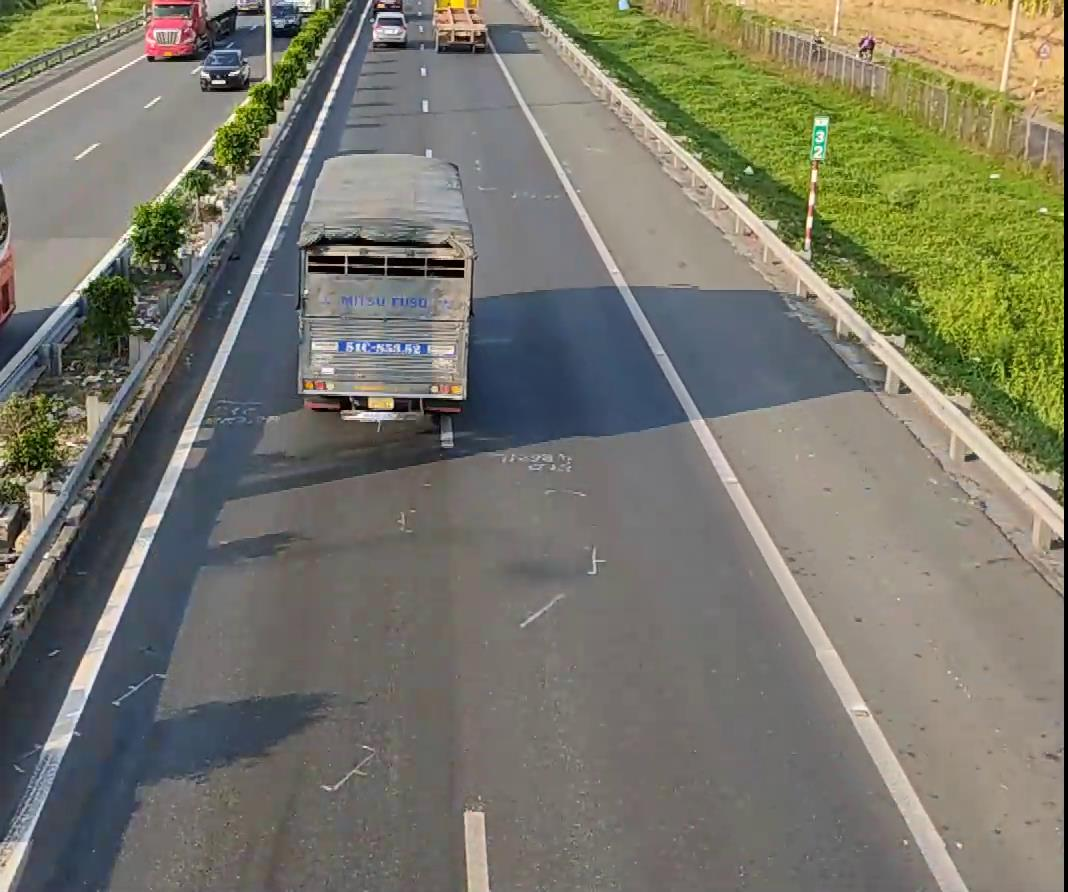container: (143, 0, 220, 59)
truck: (290, 152, 480, 431)
